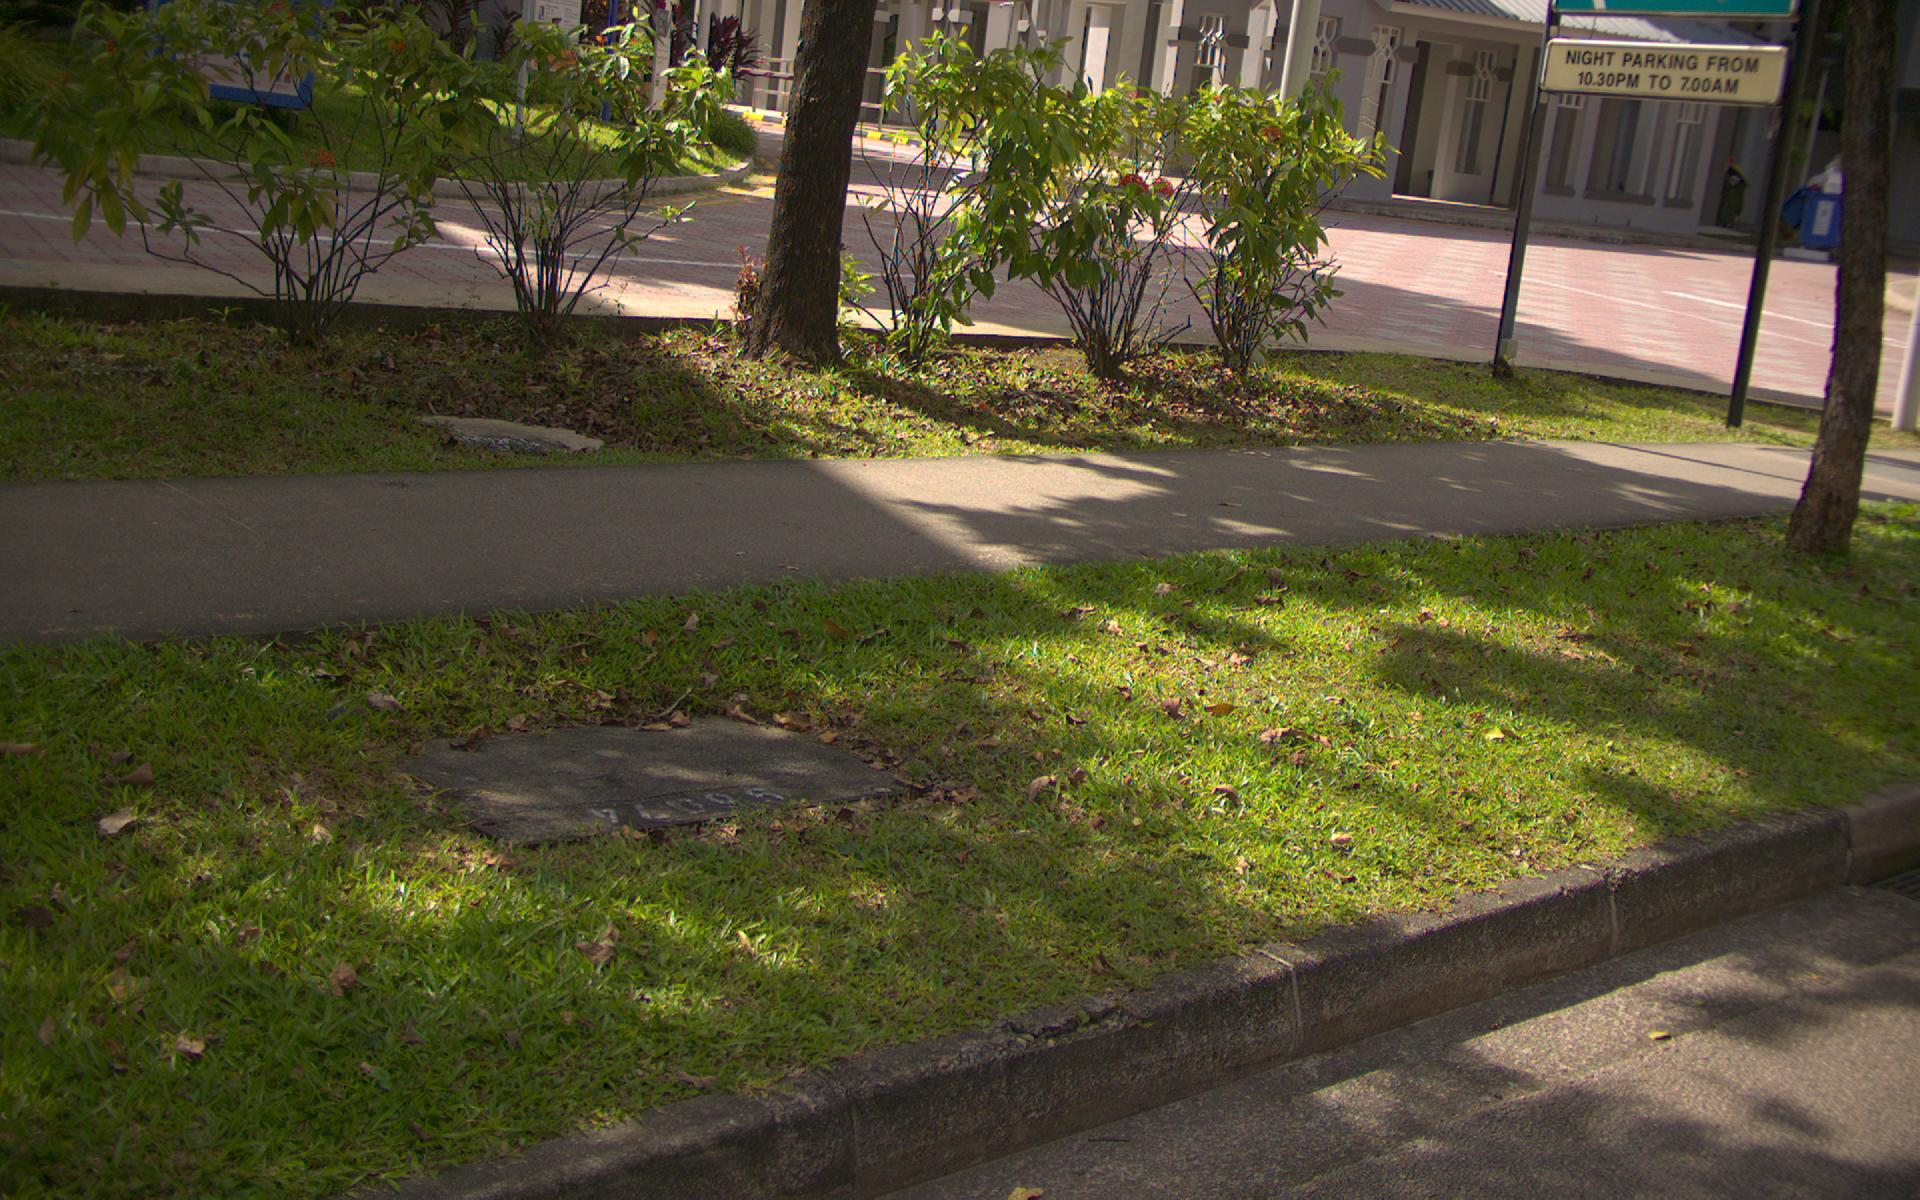road_turf_low: (32, 517, 1910, 1188)
